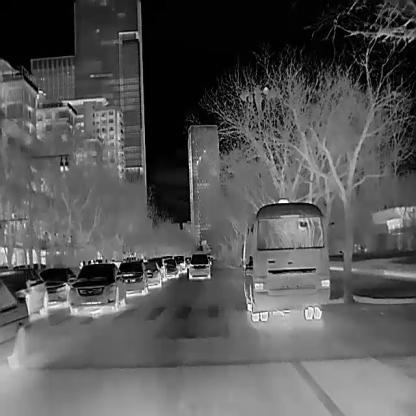car: (242, 197, 330, 321), (69, 262, 125, 315), (0, 278, 29, 370), (18, 264, 47, 315), (40, 266, 74, 301), (119, 259, 147, 297), (187, 253, 210, 279), (144, 258, 160, 287), (165, 258, 178, 276), (173, 255, 185, 272)
